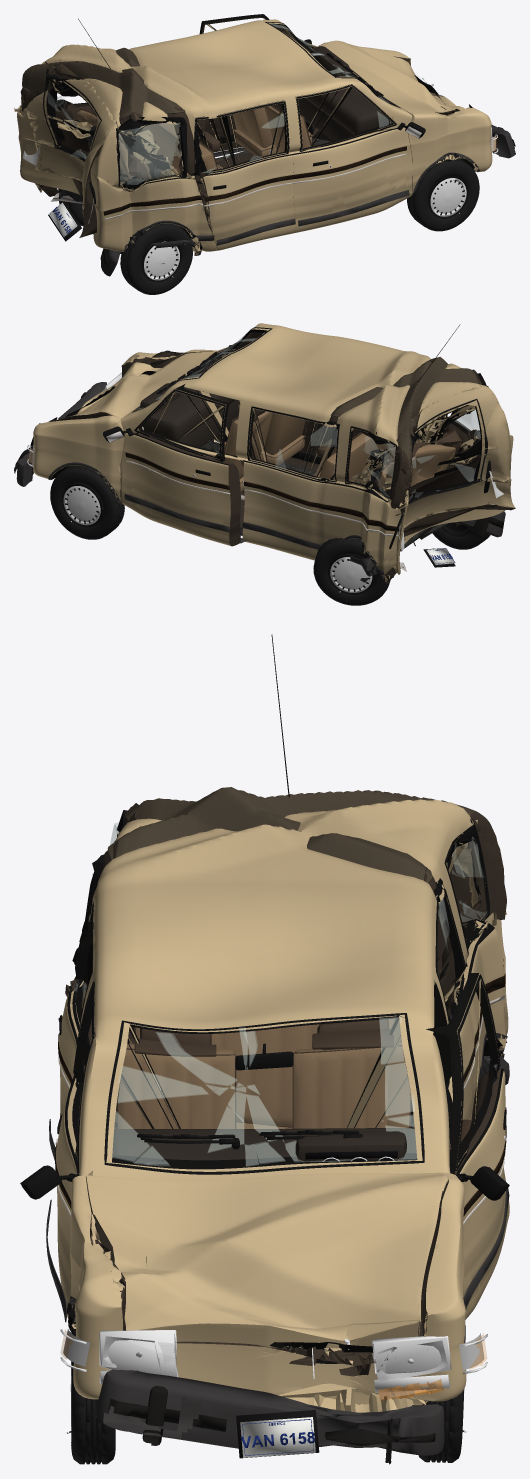
File: minivan86_rear_d2_lod1.glb
3 views of the same model, one above another, from view 1: azimuth 30°, elevation 25°; view 2: azimuth 150°, elevation 25°; view 3: azimuth 270°, elevation 25° (orthographic). The views are drawn at different scales.
Parts seen in each view (by area): view 1: Body, Door_FR, Interior, Door_SR, Liftgate, Glass, Hood, Wheel_FR_mesh, Wheel_RR_mesh, Trim_FR, Trim, Trim_SR (+8 smaller); view 2: Body, Interior, Door_FL, Liftgate, Wheel_FL_mesh, Trim, Hood, Wheel_RL_mesh, Trim_FL, Glass, Ends, Glass_Liftgate (+5 smaller); view 3: Body, Hood, Interior, Glass, Bumper_F, Ends, Door_FL, Trim, Trim_FL, Door_FR, Trim_FR, Wheel_FR_mesh (+4 smaller).
Boxes of the visible parts, x1,y1,x2,y2 form: Body: (14,19,492,255); Door_FR: (292,84,412,233); Interior: (76,46,389,180); Door_SR: (195,100,294,250); Liftgate: (22,61,118,237); Glass: (56,22,400,189); Hood: (323,40,464,113); Wheel_FR_mesh: (407,158,479,231); Wheel_RR_mesh: (120,223,192,294); Trim_FR: (292,84,425,226); Trim: (56,18,479,252); Trim_SR: (195,101,295,245); Body: (33,323,513,583); Interior: (140,359,461,491); Door_FL: (120,384,240,546); Liftgate: (395,385,515,536); Wheel_FL_mesh: (50,465,124,539); Trim: (48,324,485,576); Hood: (51,351,213,421); Wheel_RL_mesh: (313,538,390,605); Trim_FL: (103,389,246,543); Glass: (132,327,486,499); Ends: (27,372,503,567); Glass_Liftgate: (408,399,487,504); Body: (58,787,508,1412); Hood: (86,1172,448,1376); Interior: (112,1018,416,1161); Glass: (85,810,489,1174); Bumper_F: (96,1369,444,1464); Ends: (60,1329,487,1458); Door_FL: (426,973,509,1319); Trim: (67,634,509,1331); Trim_FL: (454,974,509,1307); Door_FR: (56,980,95,1318); Trim_FR: (20,981,94,1322); Wheel_FR_mesh: (66,1320,115,1464).
Size of the model in its own units: 4.17 by 2.34 by 2.04.
33 materials, 5 textured.
